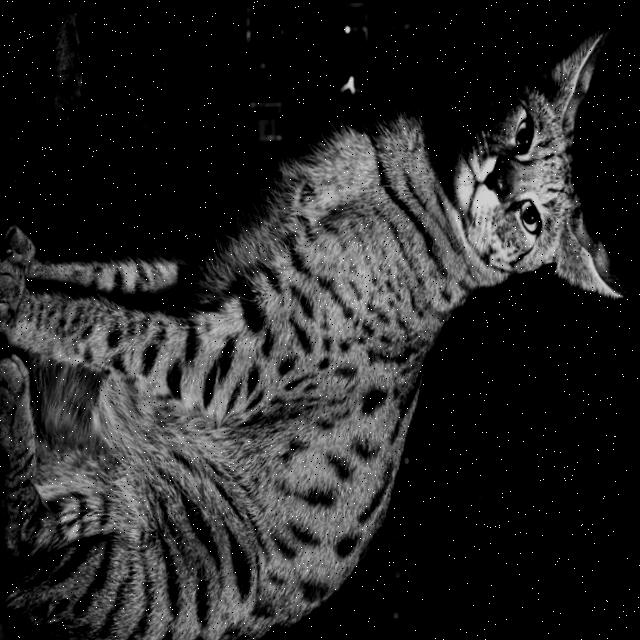Savannah: (0, 11, 640, 640)
